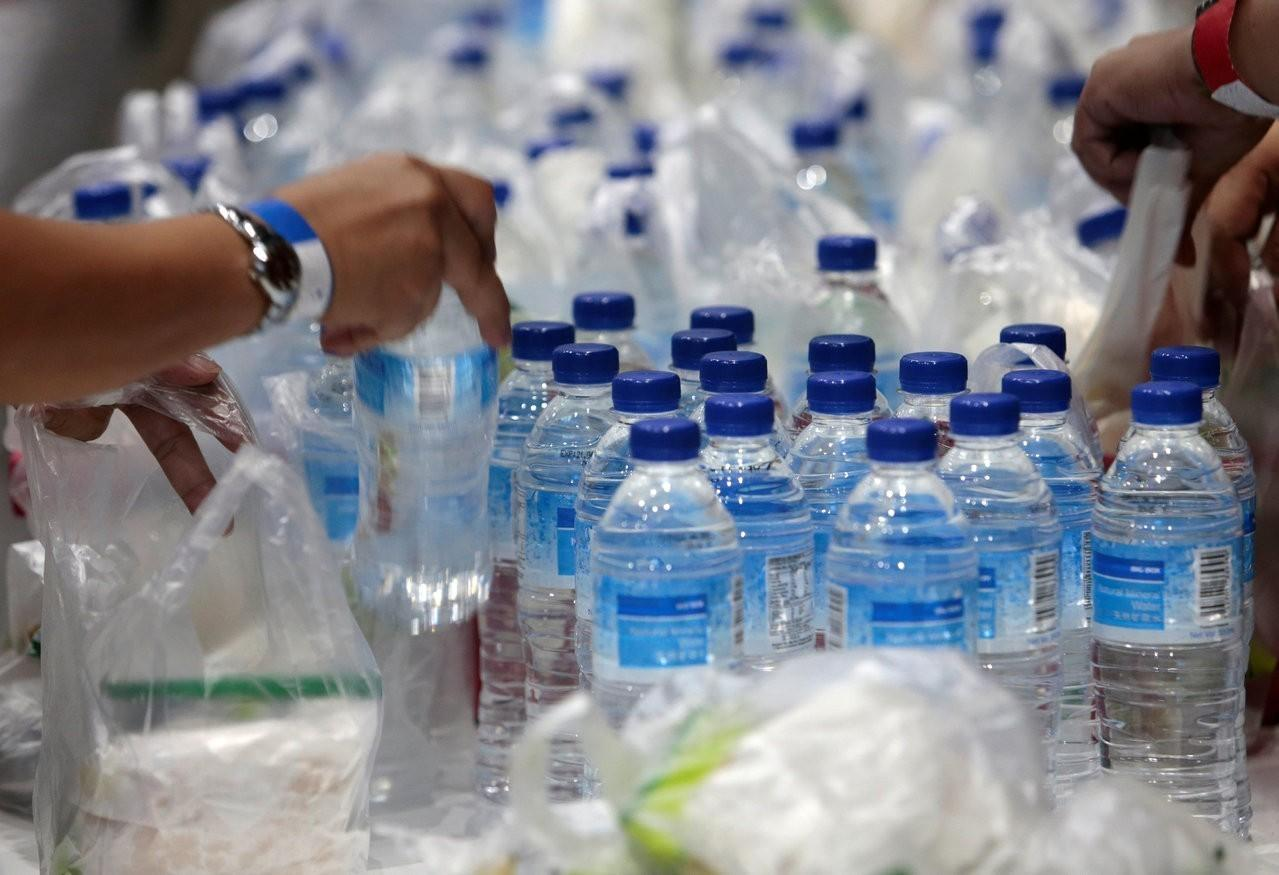plastic_bottle: (499, 285, 1262, 847), (349, 328, 495, 624)
